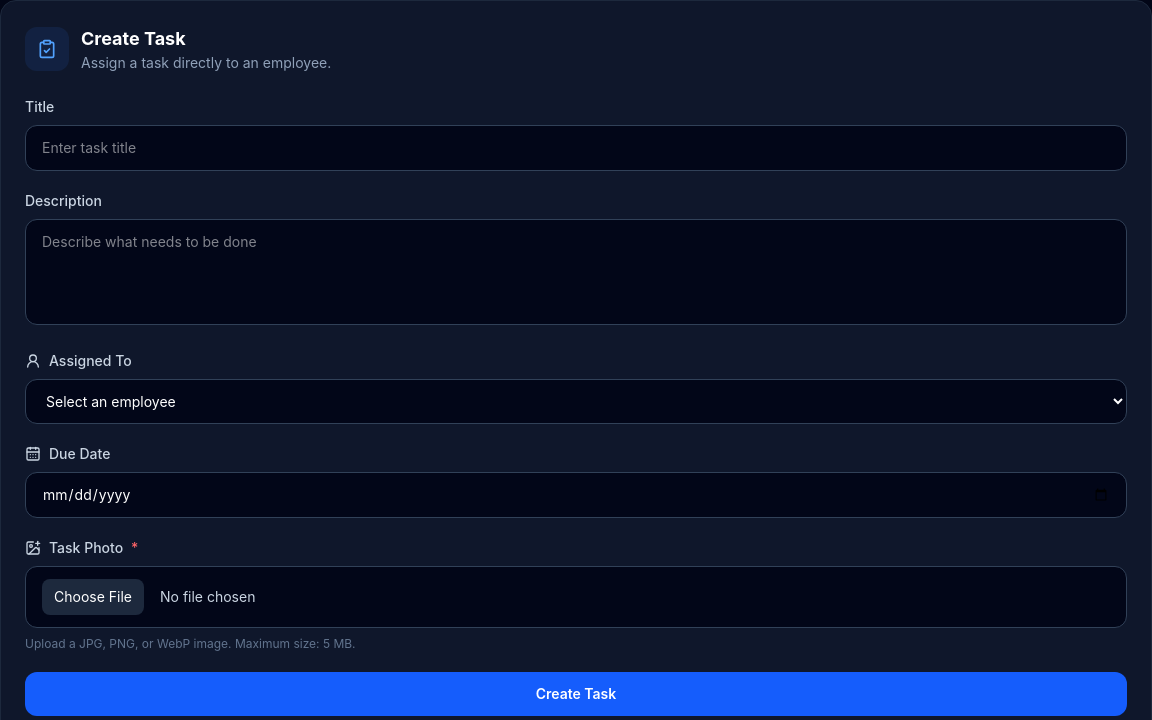
Test: TaskForm › does not create a direct task when the photo is missing
The width and height of the screenshot is (1152, 720).
Type "Merapikan area kerja" into the field labelled "Title" at [576, 148], box 25,125 -> 1127,171
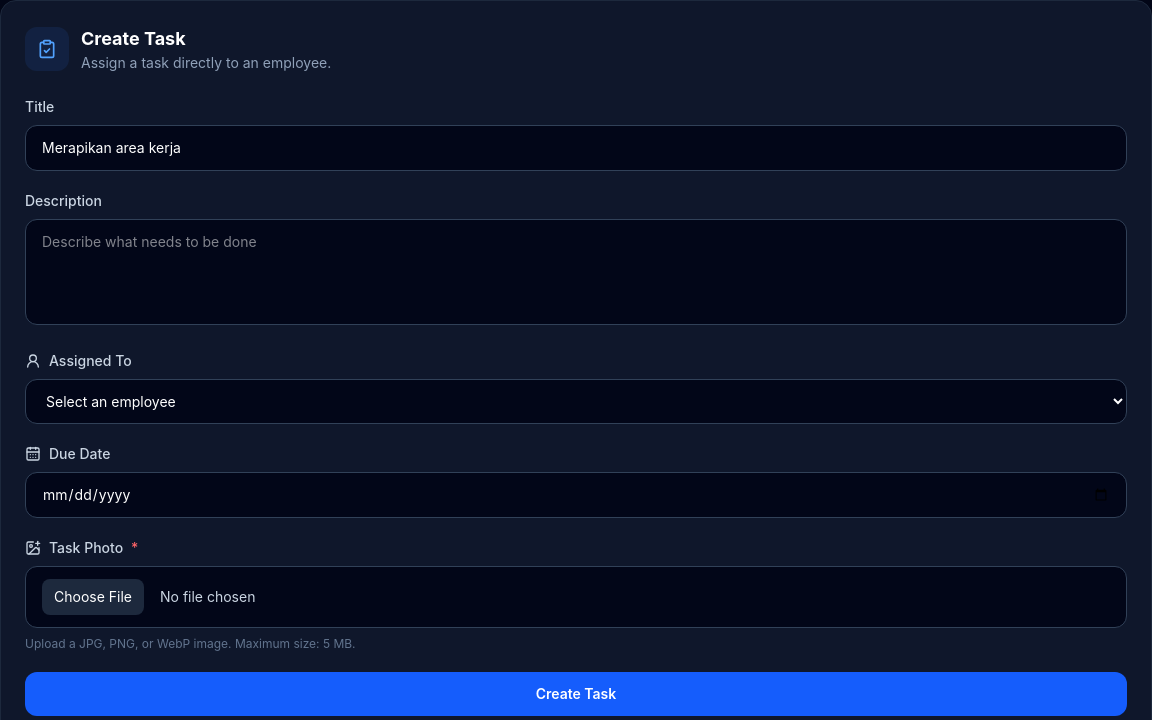
Type "Merapikan area kerja setelah aktivitas operasional." into the text box labelled "Description" at [576, 272], box 25,219 -> 1127,325
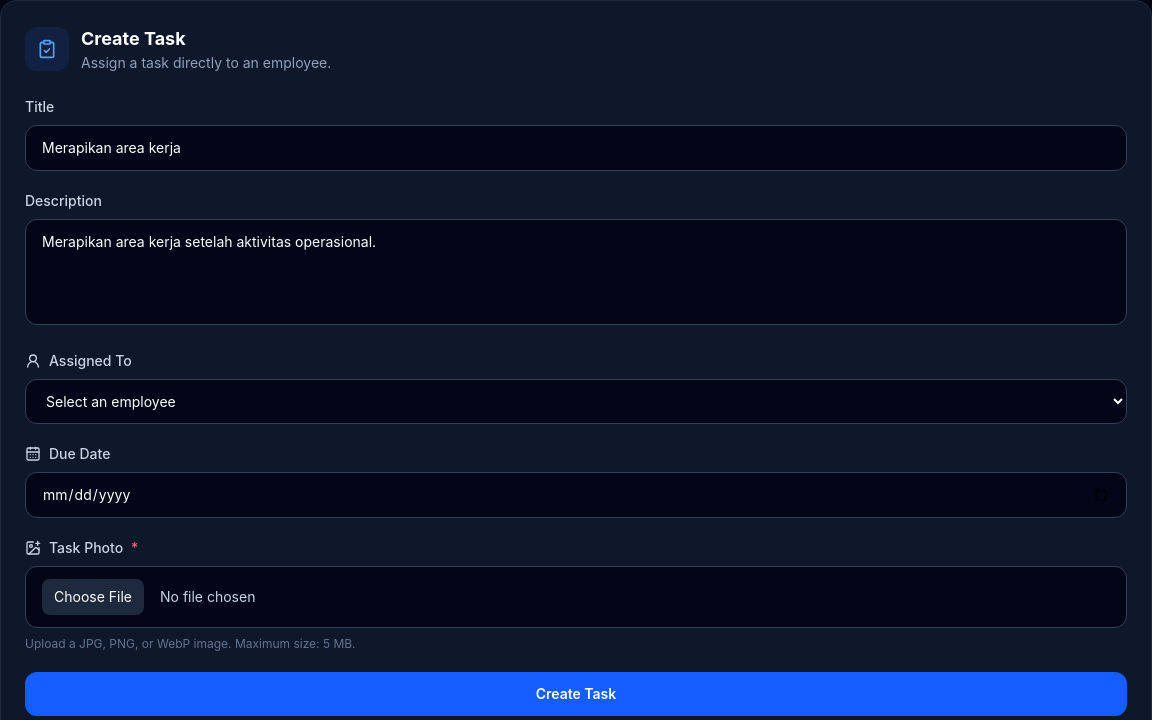
Select "Budi Santoso — budi@example.com" in the dropdown labelled "Assigned To" at [576, 402], box 25,379 -> 1127,424
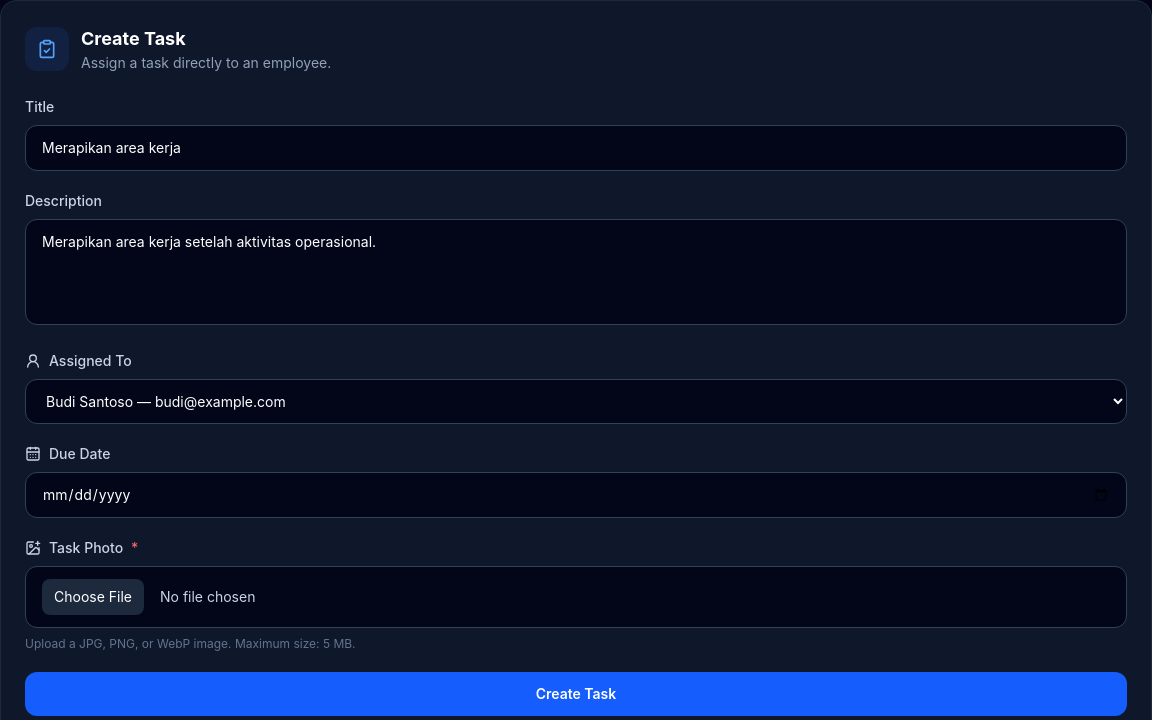
Type "2026-10-15" into the date field labelled "Due Date" at [576, 495], box 25,472 -> 1127,518
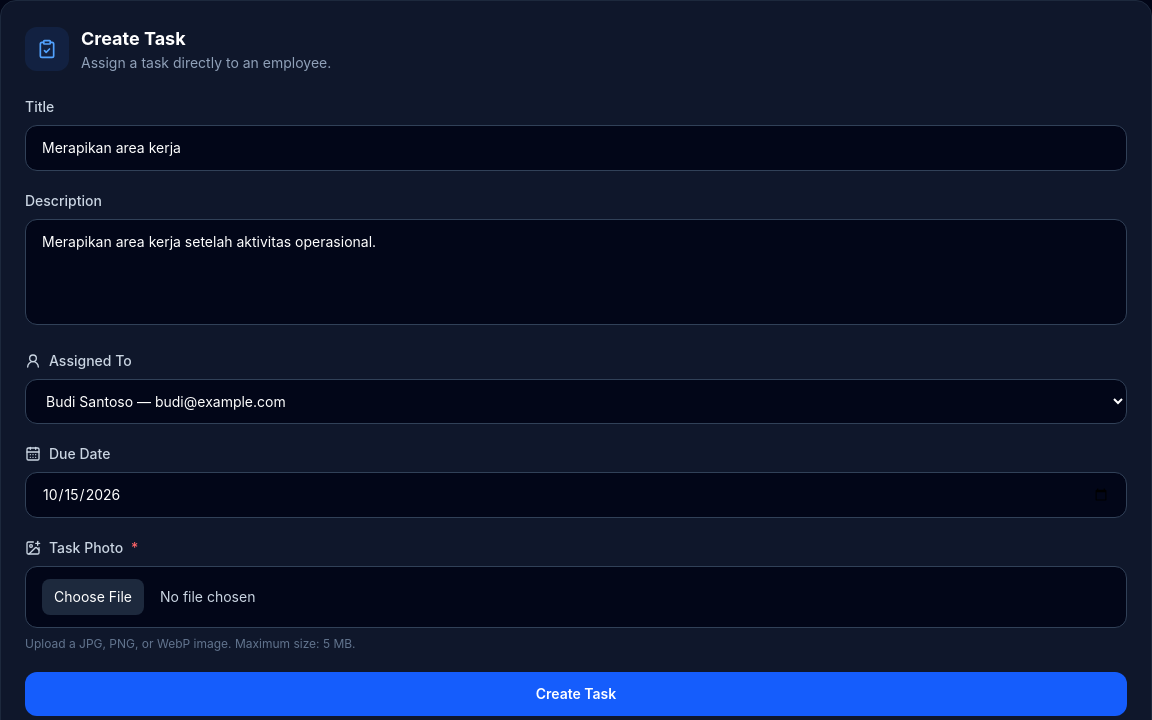
Click the button "Create Task" at [576, 694], box 25,672 -> 1127,716
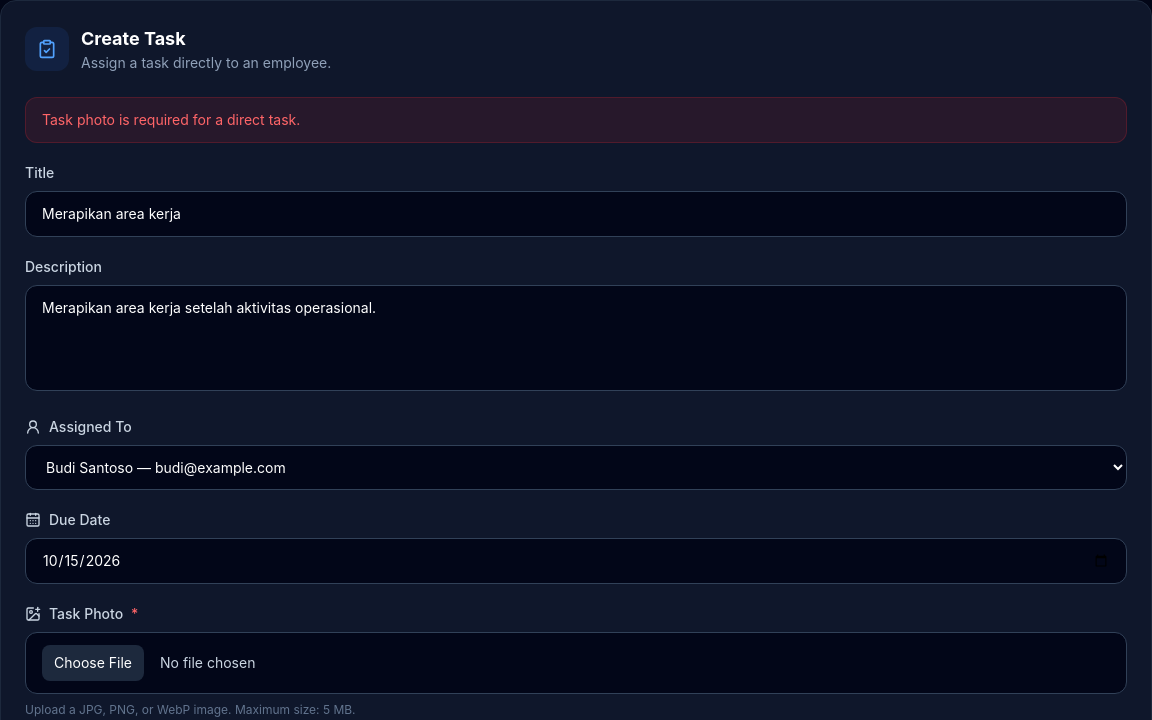
Expected: the message reads "Task photo is required for a direct task.", 42,111 -> 300,128
